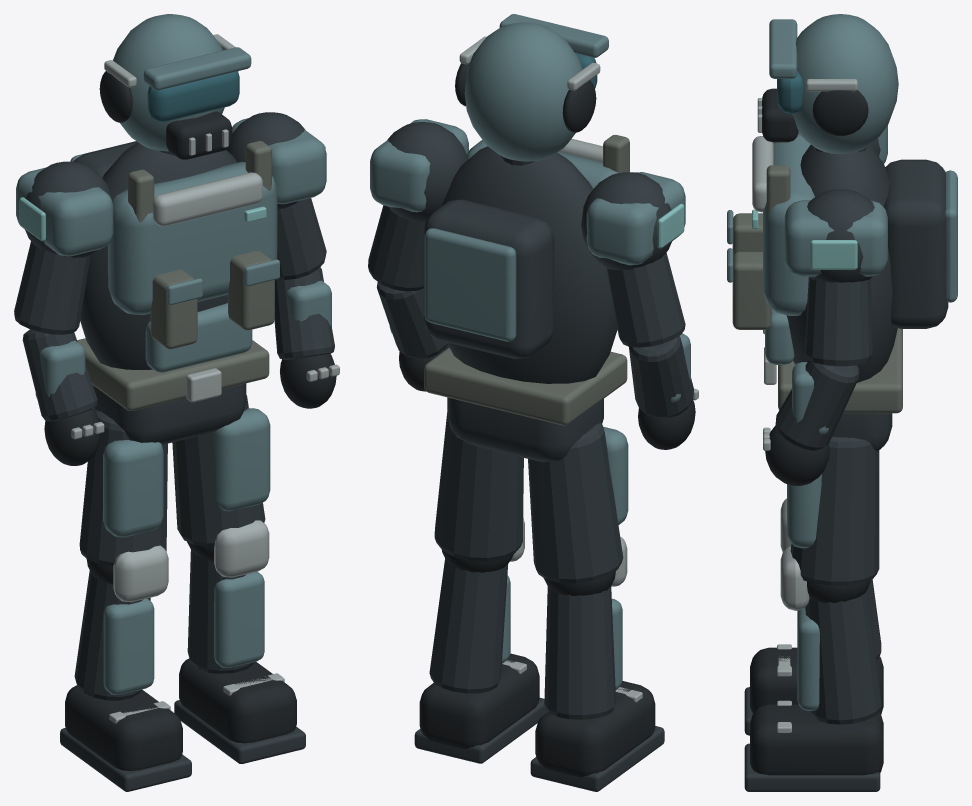
The model's file is operator.glb.
The picture shows the model from 3 angles, left to right: view 1: azimuth 30°, elevation 25°; view 2: azimuth 150°, elevation 25°; view 3: azimuth 270°, elevation 25°; orthographic projection.
Parts seen in each view (by area): view 1: Chest armor, Torso, Boot, Boot.001, Helmet shell, Thigh armor, Belt, Trouser thigh.001, Upper sleeve, Pelvis, Thigh armor.001, Shoulder armor (+34 smaller); view 2: Torso, Helmet shell, Trouser thigh, Backpack, Trouser thigh.001, Back plate, Trouser shin, Trouser shin.001, Belt, Boot, Boot.001, Pelvis (+22 smaller); view 3: Backpack, Trouser thigh.001, Helmet shell, Boot.001, Trouser shin.001, Torso, Upper sleeve.001, Chest armor, Shoulder armor.001, Forearm.001, Belt, Shoulder joint.001 (+22 smaller).
Part boxes in pixels (x1,y1,x2,y2): Chest armor: (108,161,277,315); Torso: (80,142,237,369); Boot: (65,685,182,771); Boot.001: (179,658,296,743); Helmet shell: (113,14,224,151); Thigh armor: (103,440,163,537); Belt: (77,338,269,410); Trouser thigh.001: (172,395,265,547); Upper sleeve: (14,241,90,334); Pelvis: (92,383,246,444); Thigh armor.001: (214,408,270,511); Shoulder armor: (16,167,113,256); Torso: (442,146,617,383); Helmet shell: (464,22,582,161); Trouser thigh: (528,423,623,583); Backpack: (423,199,554,358); Trouser thigh.001: (434,413,523,561); Back plate: (424,228,516,341); Trouser shin: (544,586,616,719); Trouser shin.001: (429,558,507,693); Belt: (424,347,627,425); Boot: (535,681,655,777); Boot.001: (419,653,539,749); Pelvis: (447,397,603,462); Backpack: (883,159,948,328); Trouser thigh.001: (790,437,879,586); Helmet shell: (792,14,898,154); Boot.001: (750,704,883,775); Trouser shin.001: (805,590,881,724); Torso: (786,144,897,382); Upper sleeve.001: (804,277,872,366); Chest armor: (763,134,814,315); Shoulder armor.001: (784,200,887,276); Forearm.001: (775,360,858,450); Belt: (778,328,902,413); Shoulder joint.001: (807,189,874,282).
Size of the model in its own units: 0.8259 by 1.87 by 0.536.
